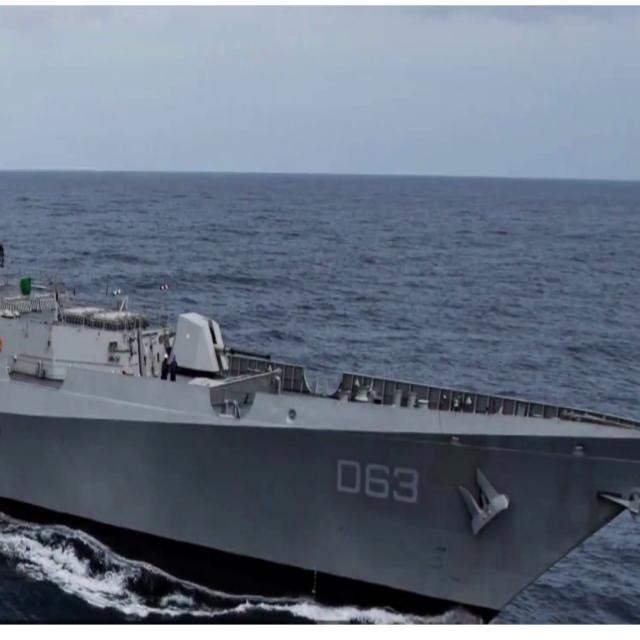OCR: (331, 455, 422, 509)
